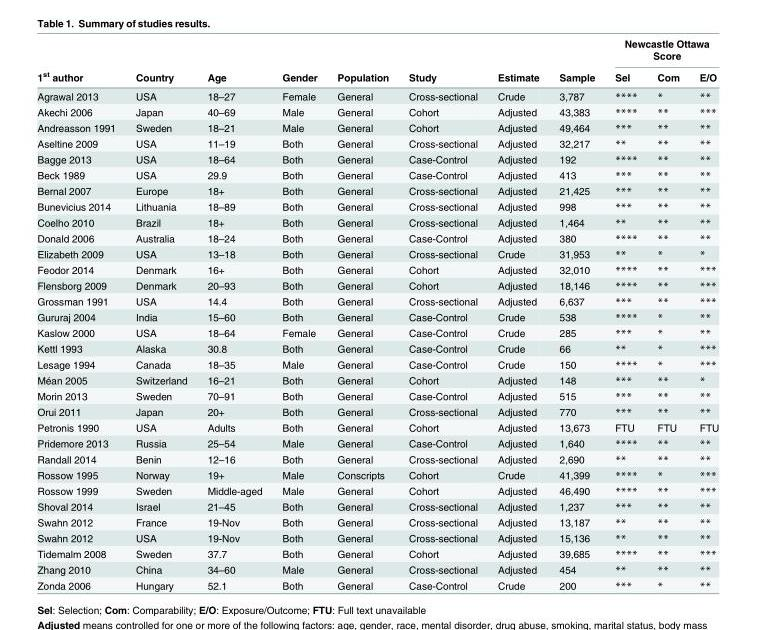table: (36, 37, 718, 591)
table column: (36, 37, 124, 591), (398, 37, 486, 591), (196, 37, 271, 591), (124, 37, 196, 591), (326, 37, 398, 591), (486, 37, 548, 591), (548, 37, 604, 591), (271, 37, 326, 591), (604, 37, 646, 591), (646, 37, 688, 591), (688, 37, 718, 591)
table column header: (36, 37, 718, 86)
table row: (36, 37, 718, 65), (36, 65, 718, 86), (36, 86, 718, 103), (36, 103, 718, 119), (36, 119, 718, 135), (36, 135, 718, 151), (36, 166, 718, 182), (36, 182, 718, 198), (36, 198, 718, 214), (36, 214, 718, 230), (36, 245, 718, 261), (36, 261, 718, 277), (36, 277, 718, 293), (36, 308, 718, 324), (36, 324, 718, 340), (36, 340, 718, 356), (36, 356, 718, 372), (36, 387, 718, 403), (36, 403, 718, 419), (36, 419, 718, 435), (36, 435, 718, 451), (36, 466, 718, 482), (36, 482, 718, 498), (36, 498, 718, 514), (36, 529, 718, 545), (36, 545, 718, 561), (36, 561, 718, 577), (36, 151, 718, 166), (36, 230, 718, 245), (36, 293, 718, 308), (36, 372, 718, 387), (36, 451, 718, 466), (36, 514, 718, 529), (36, 577, 718, 591)
table spanning cell: (36, 37, 124, 86), (398, 37, 486, 86), (196, 37, 271, 86), (124, 37, 196, 86), (326, 37, 398, 86), (604, 37, 718, 65), (486, 37, 548, 86), (548, 37, 604, 86), (271, 37, 326, 86)
